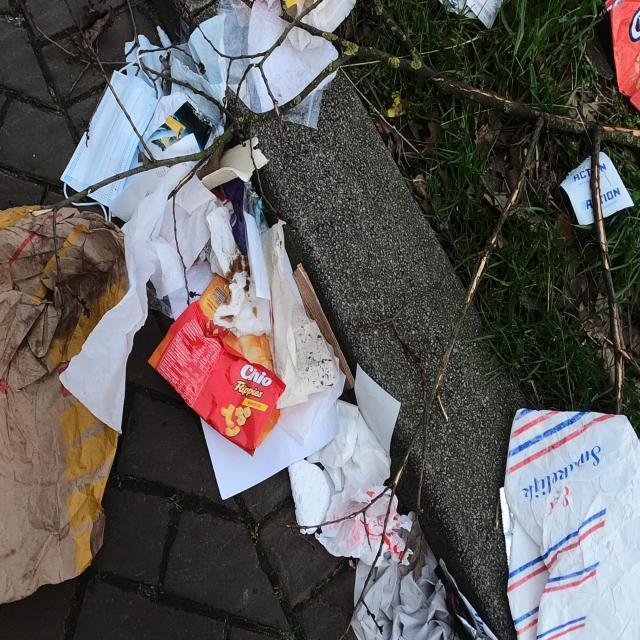Mask: (59, 46, 162, 222)
Paper: (0, 203, 129, 605), (59, 163, 218, 434), (498, 406, 640, 640), (260, 218, 336, 408), (247, 0, 338, 113), (205, 205, 272, 338), (108, 132, 201, 222), (558, 150, 635, 227), (354, 360, 402, 470), (439, 556, 498, 640), (341, 410, 392, 504), (144, 99, 218, 161), (287, 0, 356, 52), (288, 458, 331, 538), (322, 398, 359, 469), (288, 0, 330, 50), (439, 0, 504, 31)
Plastic: (147, 274, 288, 458), (604, 0, 640, 109)
